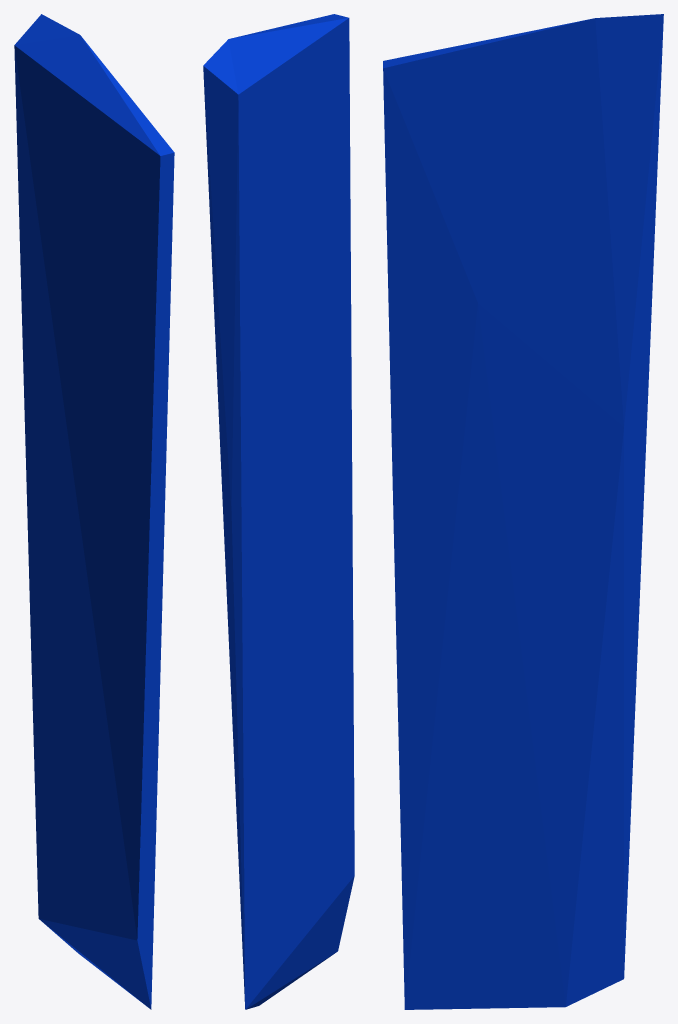
Rendered from recycle_bin_convex_piece_001.obj.
The picture shows the model from 3 angles, left to right: view 1: azimuth 30°, elevation 25°; view 2: azimuth 150°, elevation 25°; view 3: azimuth 270°, elevation 25°; orthographic projection. The views are drawn at different scales.
Size of the model in its own units: 0.0176 by 0.4047 by 0.103.
